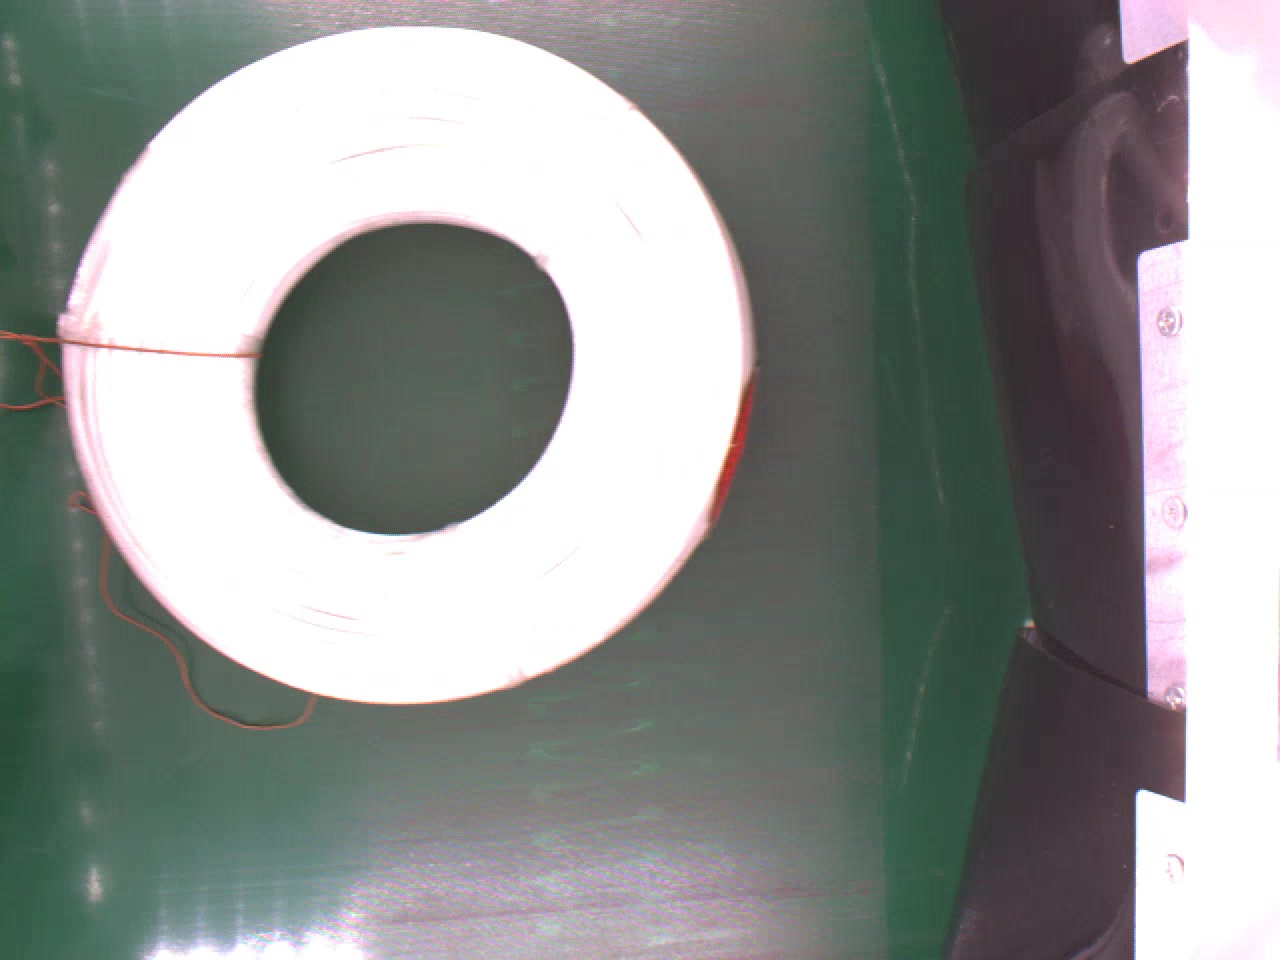white: (58, 25, 750, 702)
